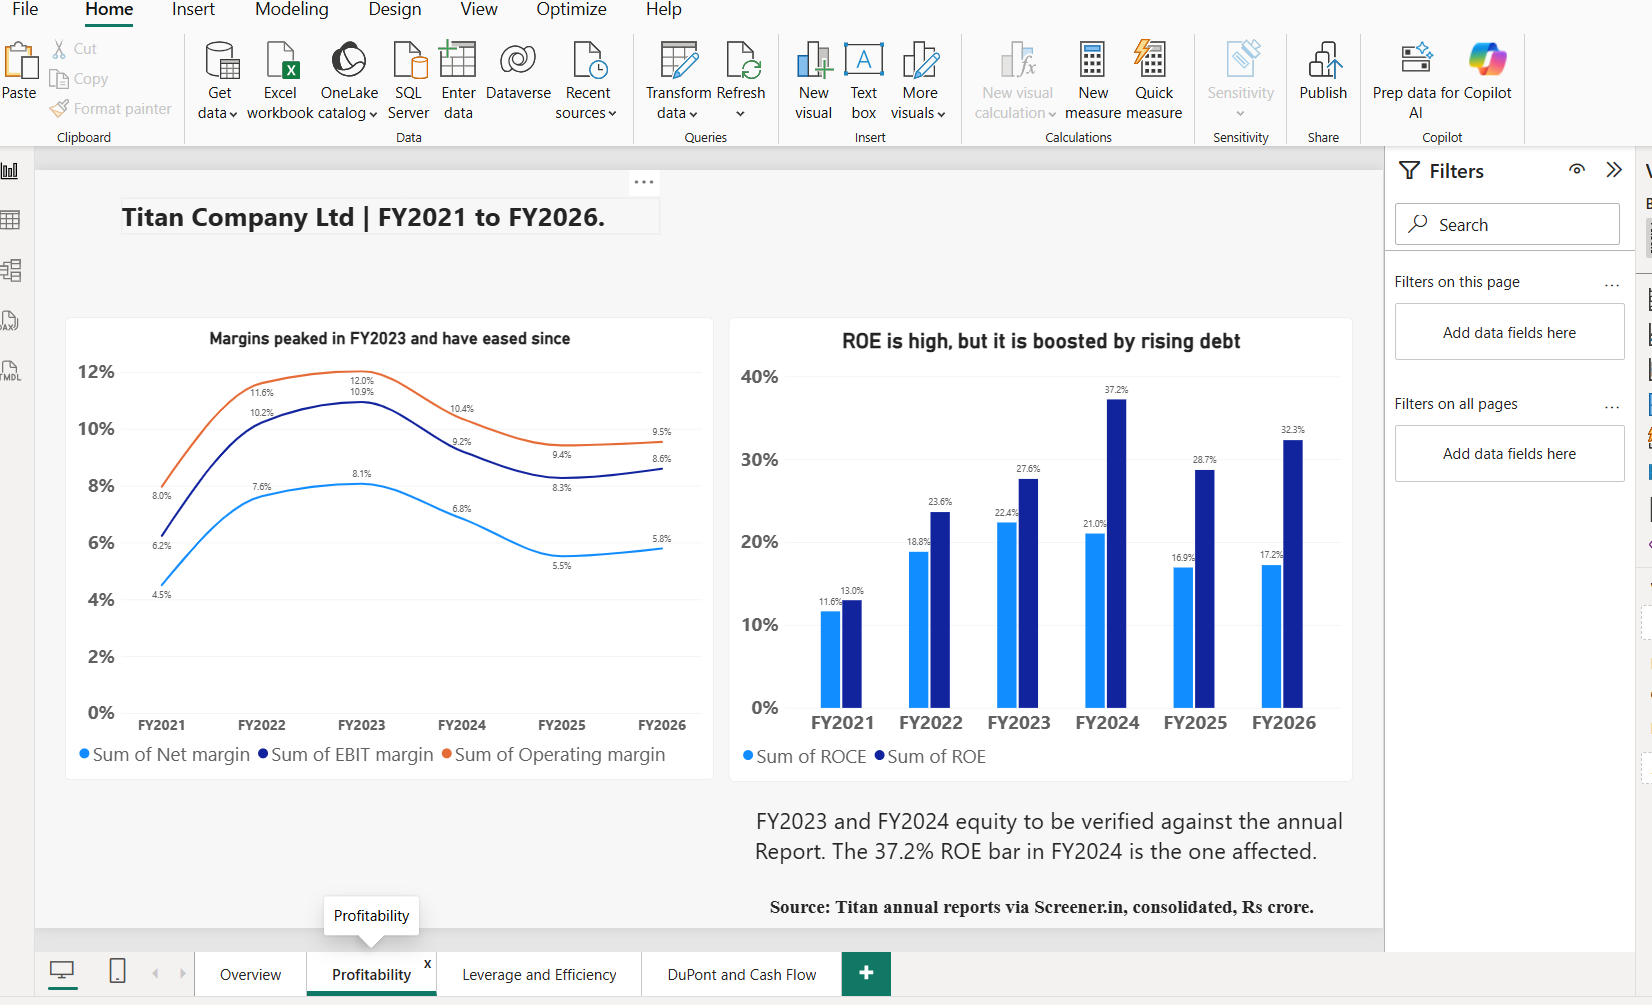

The page's visual inventory and layout, read from the dashboard file:
{"tool":"powerbi","page":{"name":"Profitability","canvas":[1920,1080],"ordinal":1},"visuals":[{"type":"group","id":"g1","title":"Group 1","box":[43,210.7,1833.9,661.4],"z":0},{"type":"lineChart","title":"Margins peaked in FY2023 and have eased since","fields":{"Category":["PowerBI_Data.Year"],"Y":["Sum(PowerBI_Data.Net margin)","Sum(PowerBI_Data.EBIT margin)","Sum(PowerBI_Data.Operating margin)"]},"box":[43,210.7,924.2,658.7],"z":0,"group":"g1"},{"type":"clusteredColumnChart","title":"ROE is high, but it is boosted by rising debt","fields":{"Category":["PowerBI_Data.Year"],"Y":["Sum(PowerBI_Data.ROCE)","Sum(PowerBI_Data.ROE)"]},"box":[987.7,211.4,889.2,660.7],"z":1000,"group":"g1"},{"type":"textbox","box":[0,669,679.2,234.6],"z":1000},{"type":"textbox","box":[987.8,904.1,874.8,129.7],"z":2000},{"type":"textbox","box":[123.5,39.1,765.7,53.5],"z":3000},{"type":"textbox","box":[1039.5,1034.7,792.5,45.3],"z":4000}]}

Visuals, with their boxes on the page's 1920x1080 design canvas (x1, y1, x2, y2). These are canvas units, not pixel positions in the 1652x1005 screenshot, which may show the page scaled, cropped or inside an application window:
"Group 1" group: 43:211:1877:872
"Margins peaked in FY2023 and have eased since" lineChart: 43:211:967:869
"ROE is high, but it is boosted by rising debt" clusteredColumnChart: 988:211:1877:872
textbox: 0:669:679:904
textbox: 988:904:1863:1034
textbox: 124:39:889:93
textbox: 1040:1035:1832:1080
